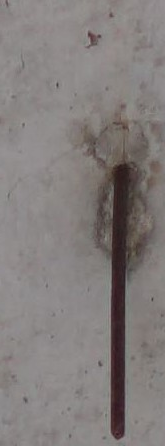Exposed reinforcement: (109, 163, 130, 440)
Spalling: (93, 121, 149, 256)
